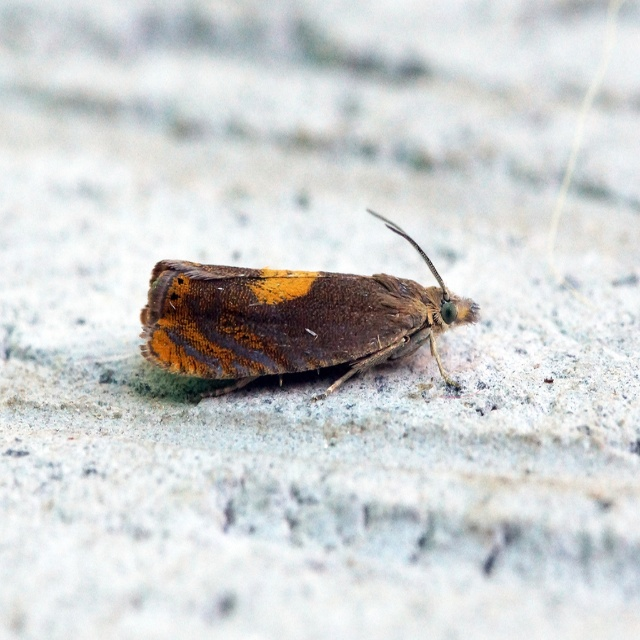Butterfly: (135, 200, 501, 408)
